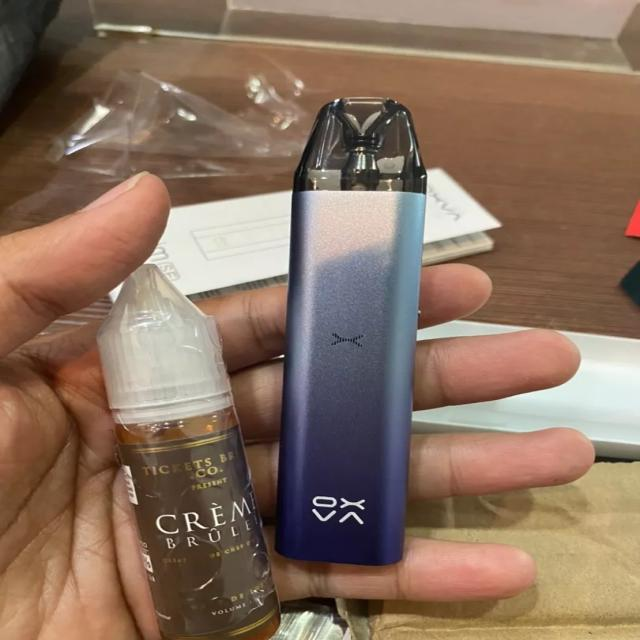Hazard: (270, 95, 430, 566)
